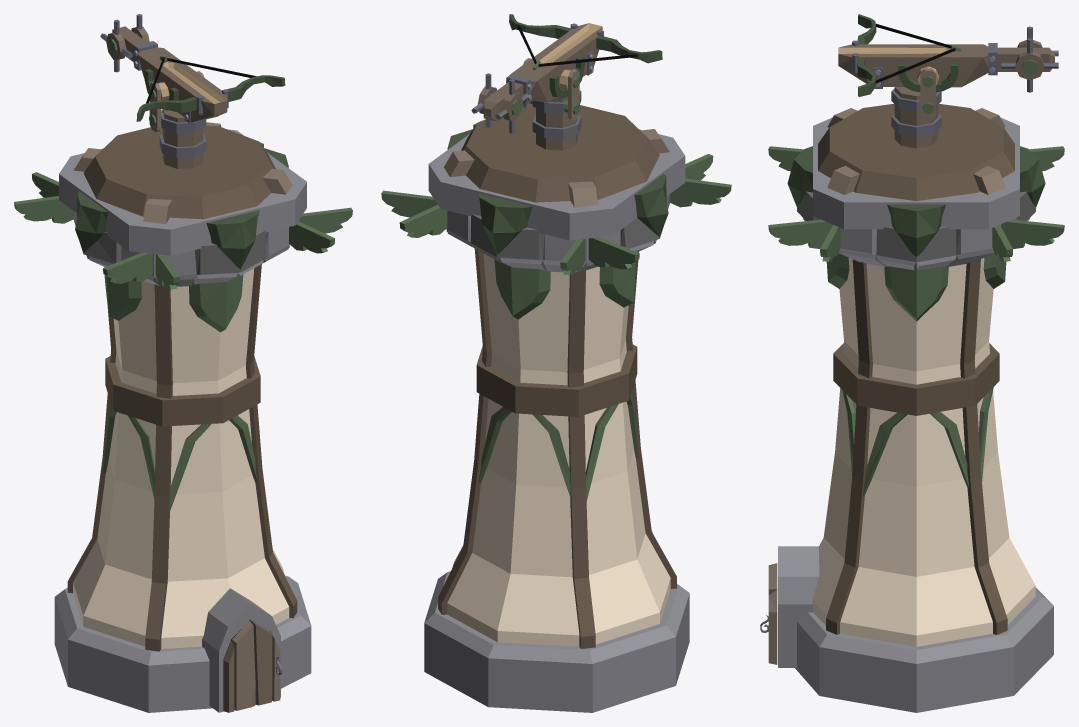
The model's file is _Ballista_tower_LVL_2.fbx.
The picture shows the model from 3 angles, left to right: view 1: azimuth 30°, elevation 25°; view 2: azimuth 150°, elevation 25°; view 3: azimuth 270°, elevation 25°; orthographic projection. The views are drawn at different scales.
Visible parts, largest first — view 1: Ballista_tower_LVL_2, Ballista_tower_LVL_2.001; view 2: Ballista_tower_LVL_2, Ballista_tower_LVL_2.001; view 3: Ballista_tower_LVL_2, Ballista_tower_LVL_2.001.
Boxes of the visible parts, x1,y1,x2,y2 form: Ballista_tower_LVL_2: [14, 109, 352, 712]; Ballista_tower_LVL_2.001: [100, 14, 285, 132]; Ballista_tower_LVL_2: [381, 90, 731, 712]; Ballista_tower_LVL_2.001: [471, 14, 662, 133]; Ballista_tower_LVL_2: [760, 87, 1064, 712]; Ballista_tower_LVL_2.001: [838, 14, 1058, 118].
Bounding box in the file's own units: 611 × 1413 × 628.
